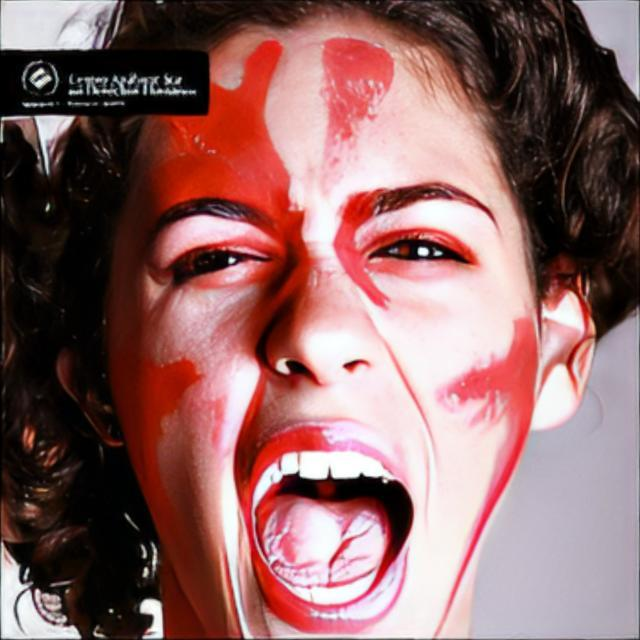anger: (106, 32, 558, 638)
